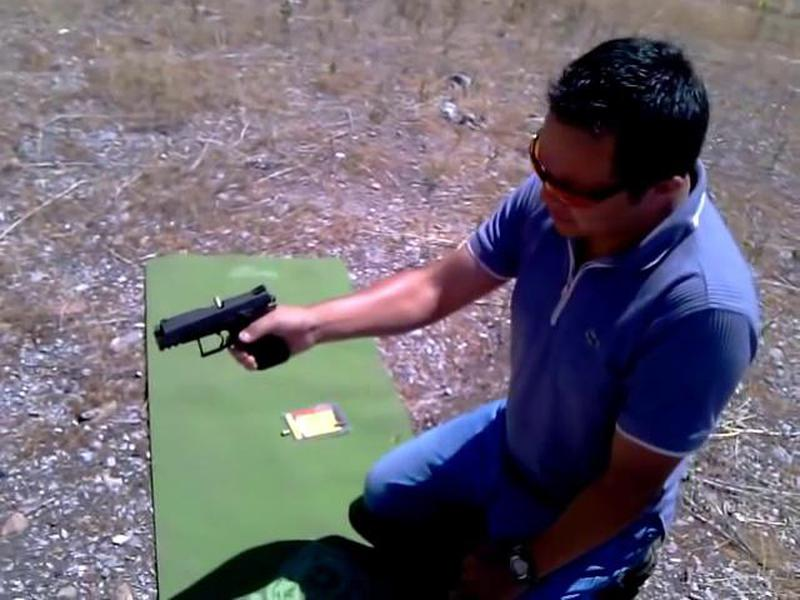Pistola: (147, 265, 285, 398)
